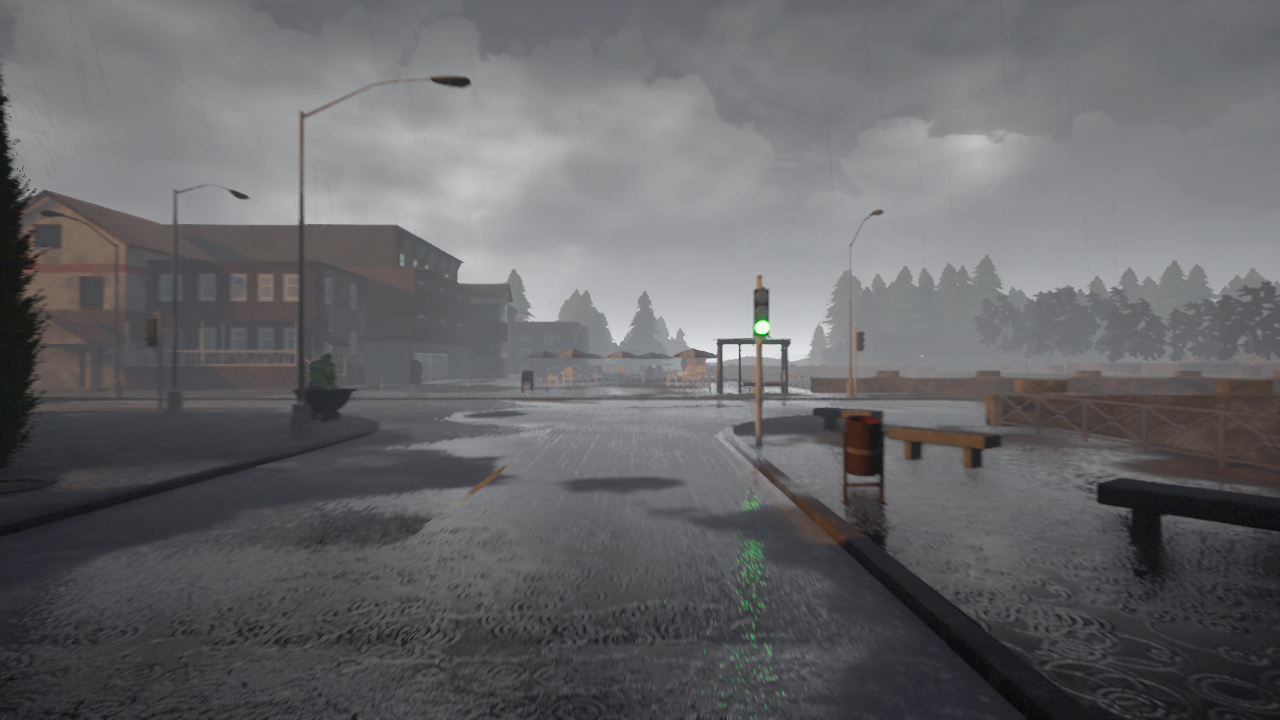green: (751, 287, 771, 342)
